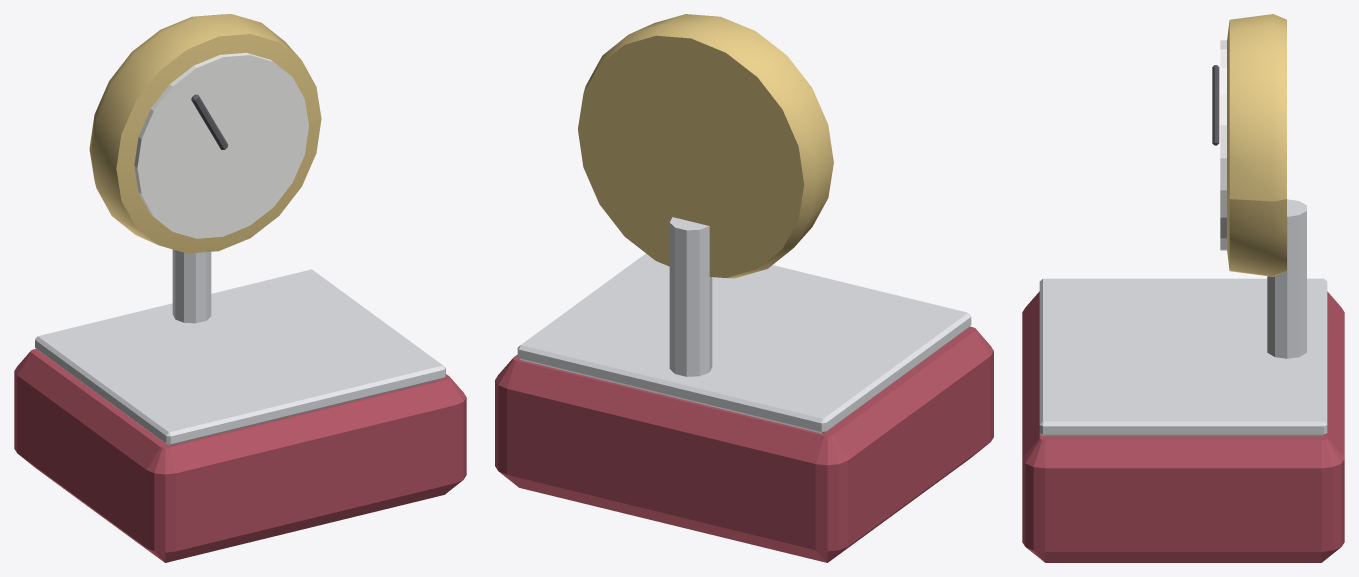
The model's file is butchers-shop-and-deli-counter-counter-scales-065193da__34434.glb.
The picture shows the model from 3 angles, left to right: view 1: azimuth 30°, elevation 25°; view 2: azimuth 150°, elevation 25°; view 3: azimuth 270°, elevation 25°; orthographic projection. The views are drawn at different scales.
Visible parts, largest first — view 1: counter-scales; view 2: counter-scales; view 3: counter-scales.
Boxes of the visible parts, x1=… form: counter-scales: x1=14, y1=14, x2=466, y2=562; counter-scales: x1=495, y1=14, x2=993, y2=562; counter-scales: x1=1022, y1=14, x2=1344, y2=562.
Size of the model in its own units: 0.34 by 0.445 by 0.28.
